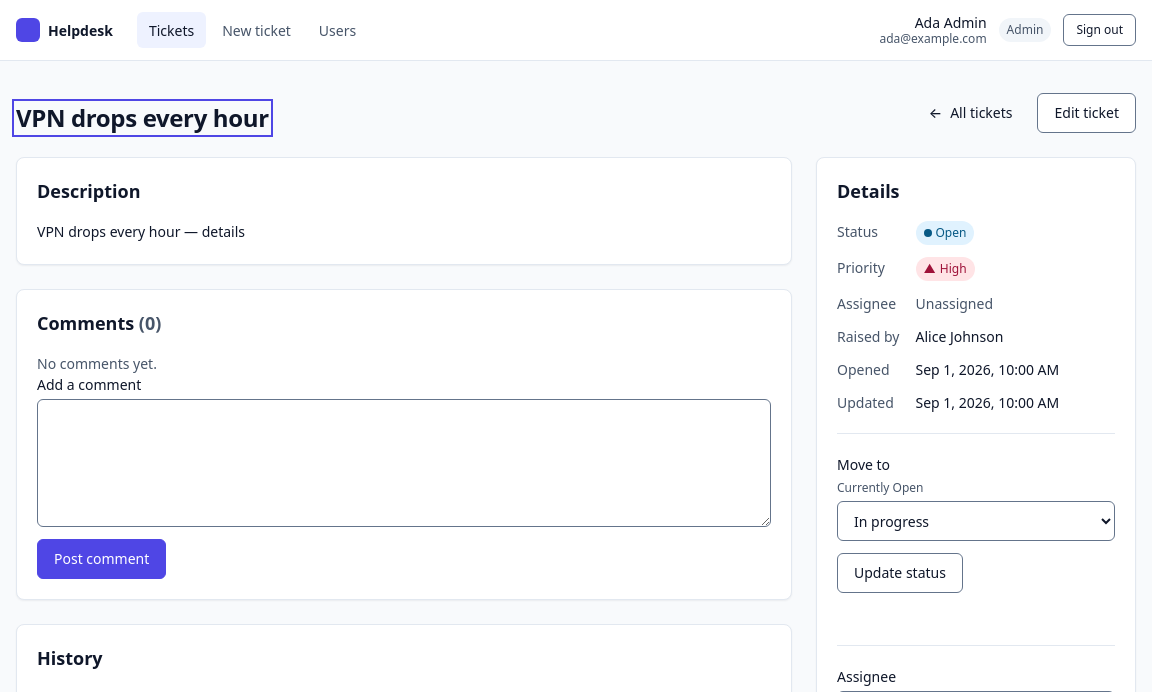
it: AdminTicketPanel › changes status inline without a dialog for reversible moves
Select "In progress" in the dropdown labelled "Move to" at (976, 521), box [837,501,1115,541]
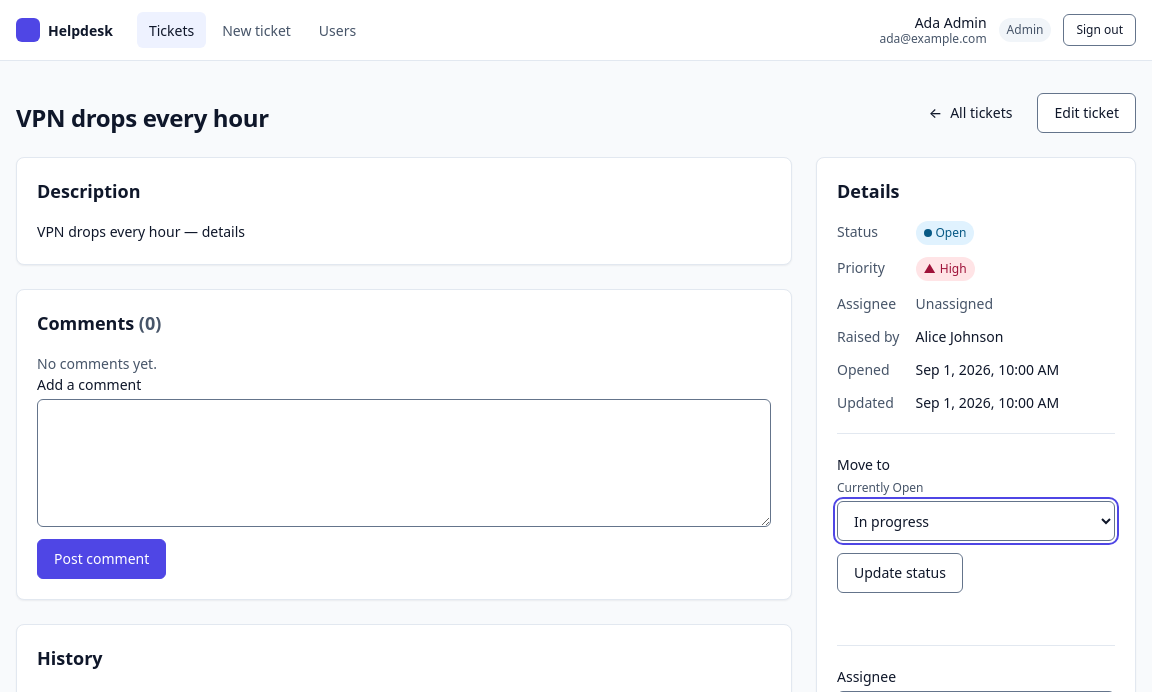
Click the button "Update status" at (900, 573), box [837,553,963,593]
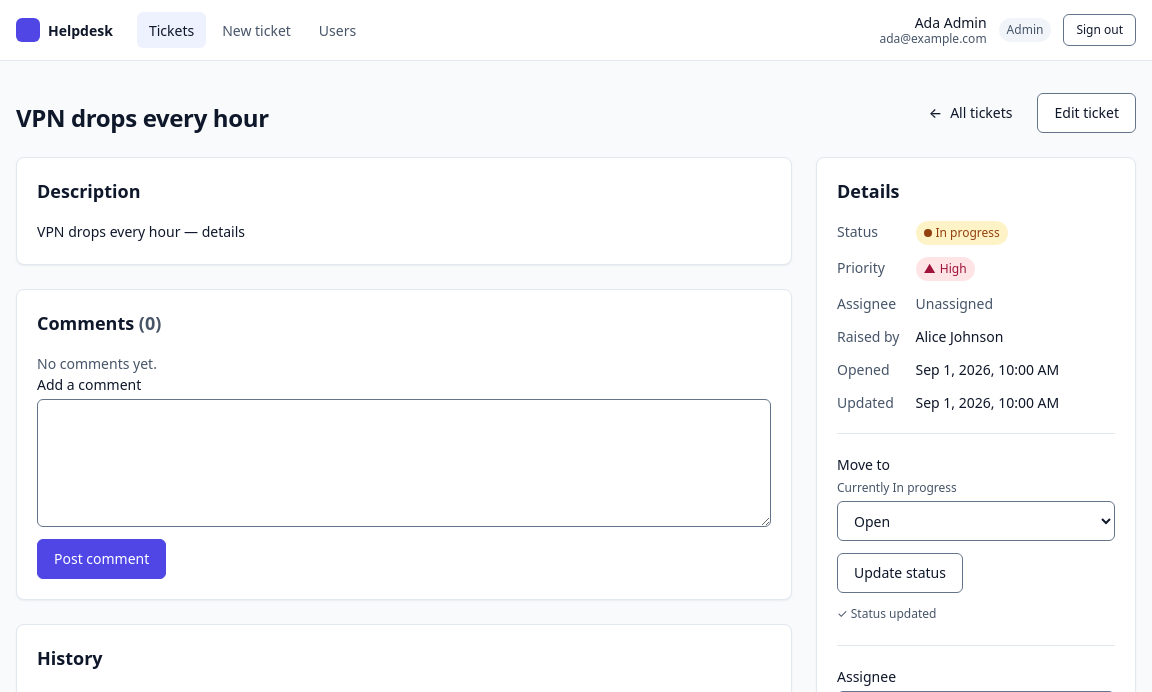
Check: the text "✓ Status updated" is shown, box [837,605,936,622]
